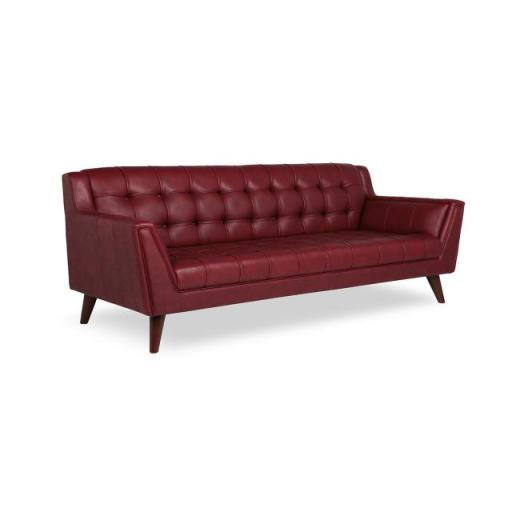sofa: (38, 146, 512, 364)
